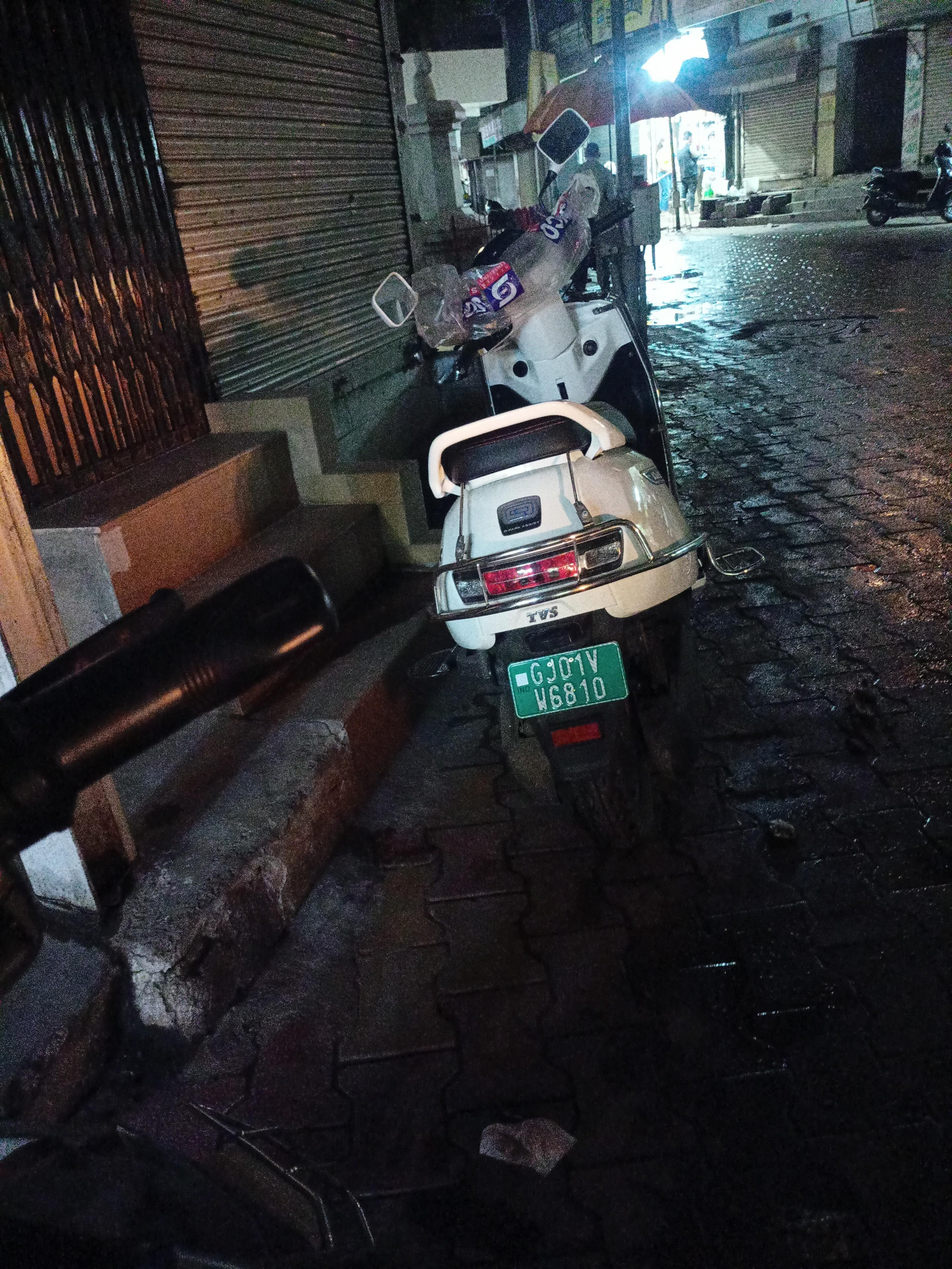green license plate: (503, 643, 631, 724)
